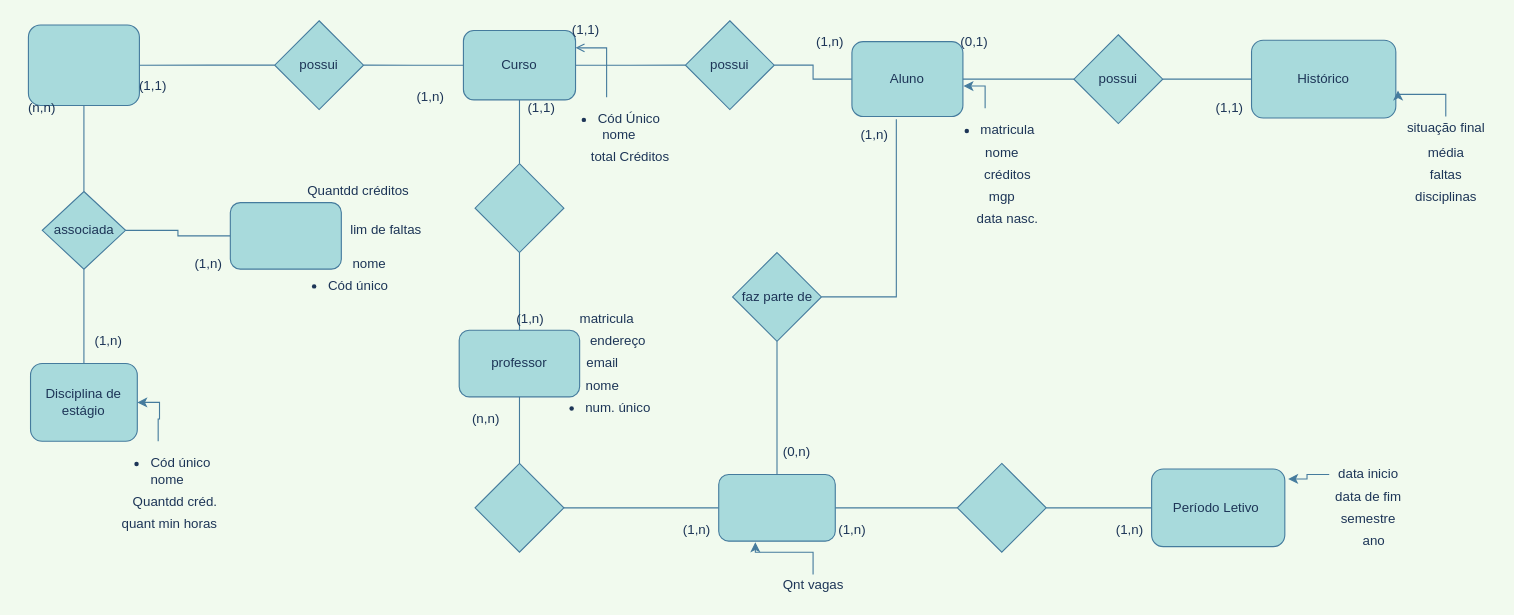
This 1514x615 diagram has some shape labels left out. The centre of each missing label's shape, as x and y in pixels:
"coordenado" goes at point (519, 208).
"Disciplina" goes at point (285, 235).
"leciona" goes at point (519, 507).
"Matriz curricular" goes at point (83, 64).
"tem" goes at point (1001, 507).
"Turma" goes at point (776, 507).
